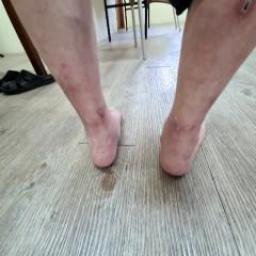Back View -Both Feet-: (62, 88, 230, 191)
